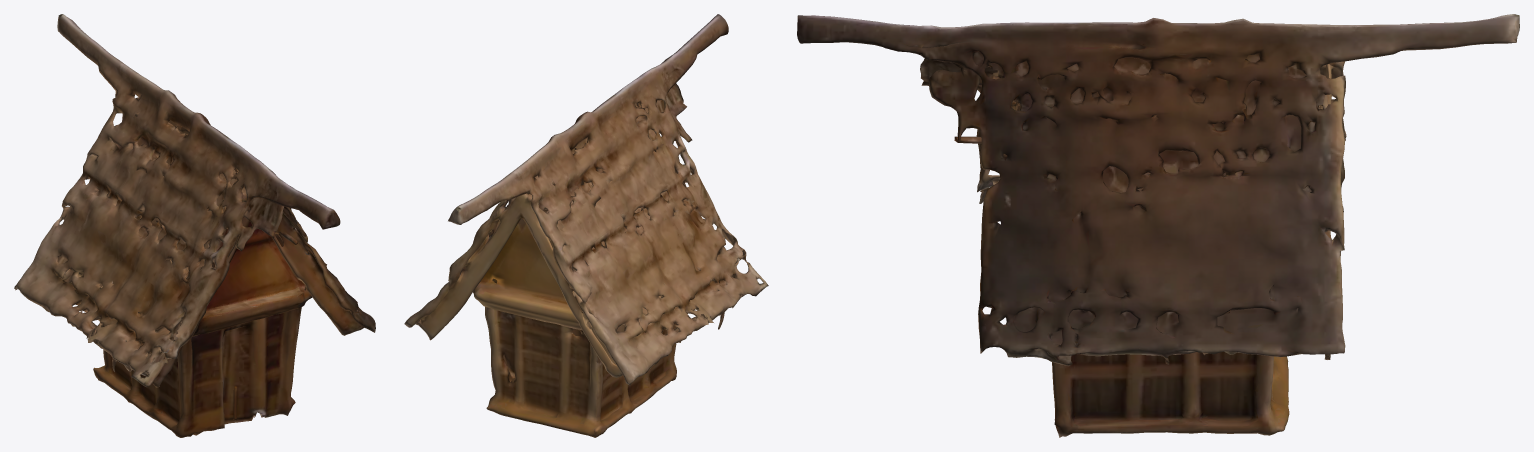
File: leuit.glb
3 views of the same model, side by side, from view 1: azimuth 30°, elevation 25°; view 2: azimuth 150°, elevation 25°; view 3: azimuth 270°, elevation 25° (orthographic). The views are drawn at different scales.
Visible parts, largest first — view 1: Object_4; view 2: Object_4; view 3: Object_4.
Boxes of the visible parts, bbox=[...] form: Object_4: bbox=[14, 14, 375, 437]; Object_4: bbox=[404, 14, 768, 437]; Object_4: bbox=[797, 14, 1519, 437].
Size of the model in its own units: 1.03 by 1.18 by 1.99.
1 material, 1 textured.
